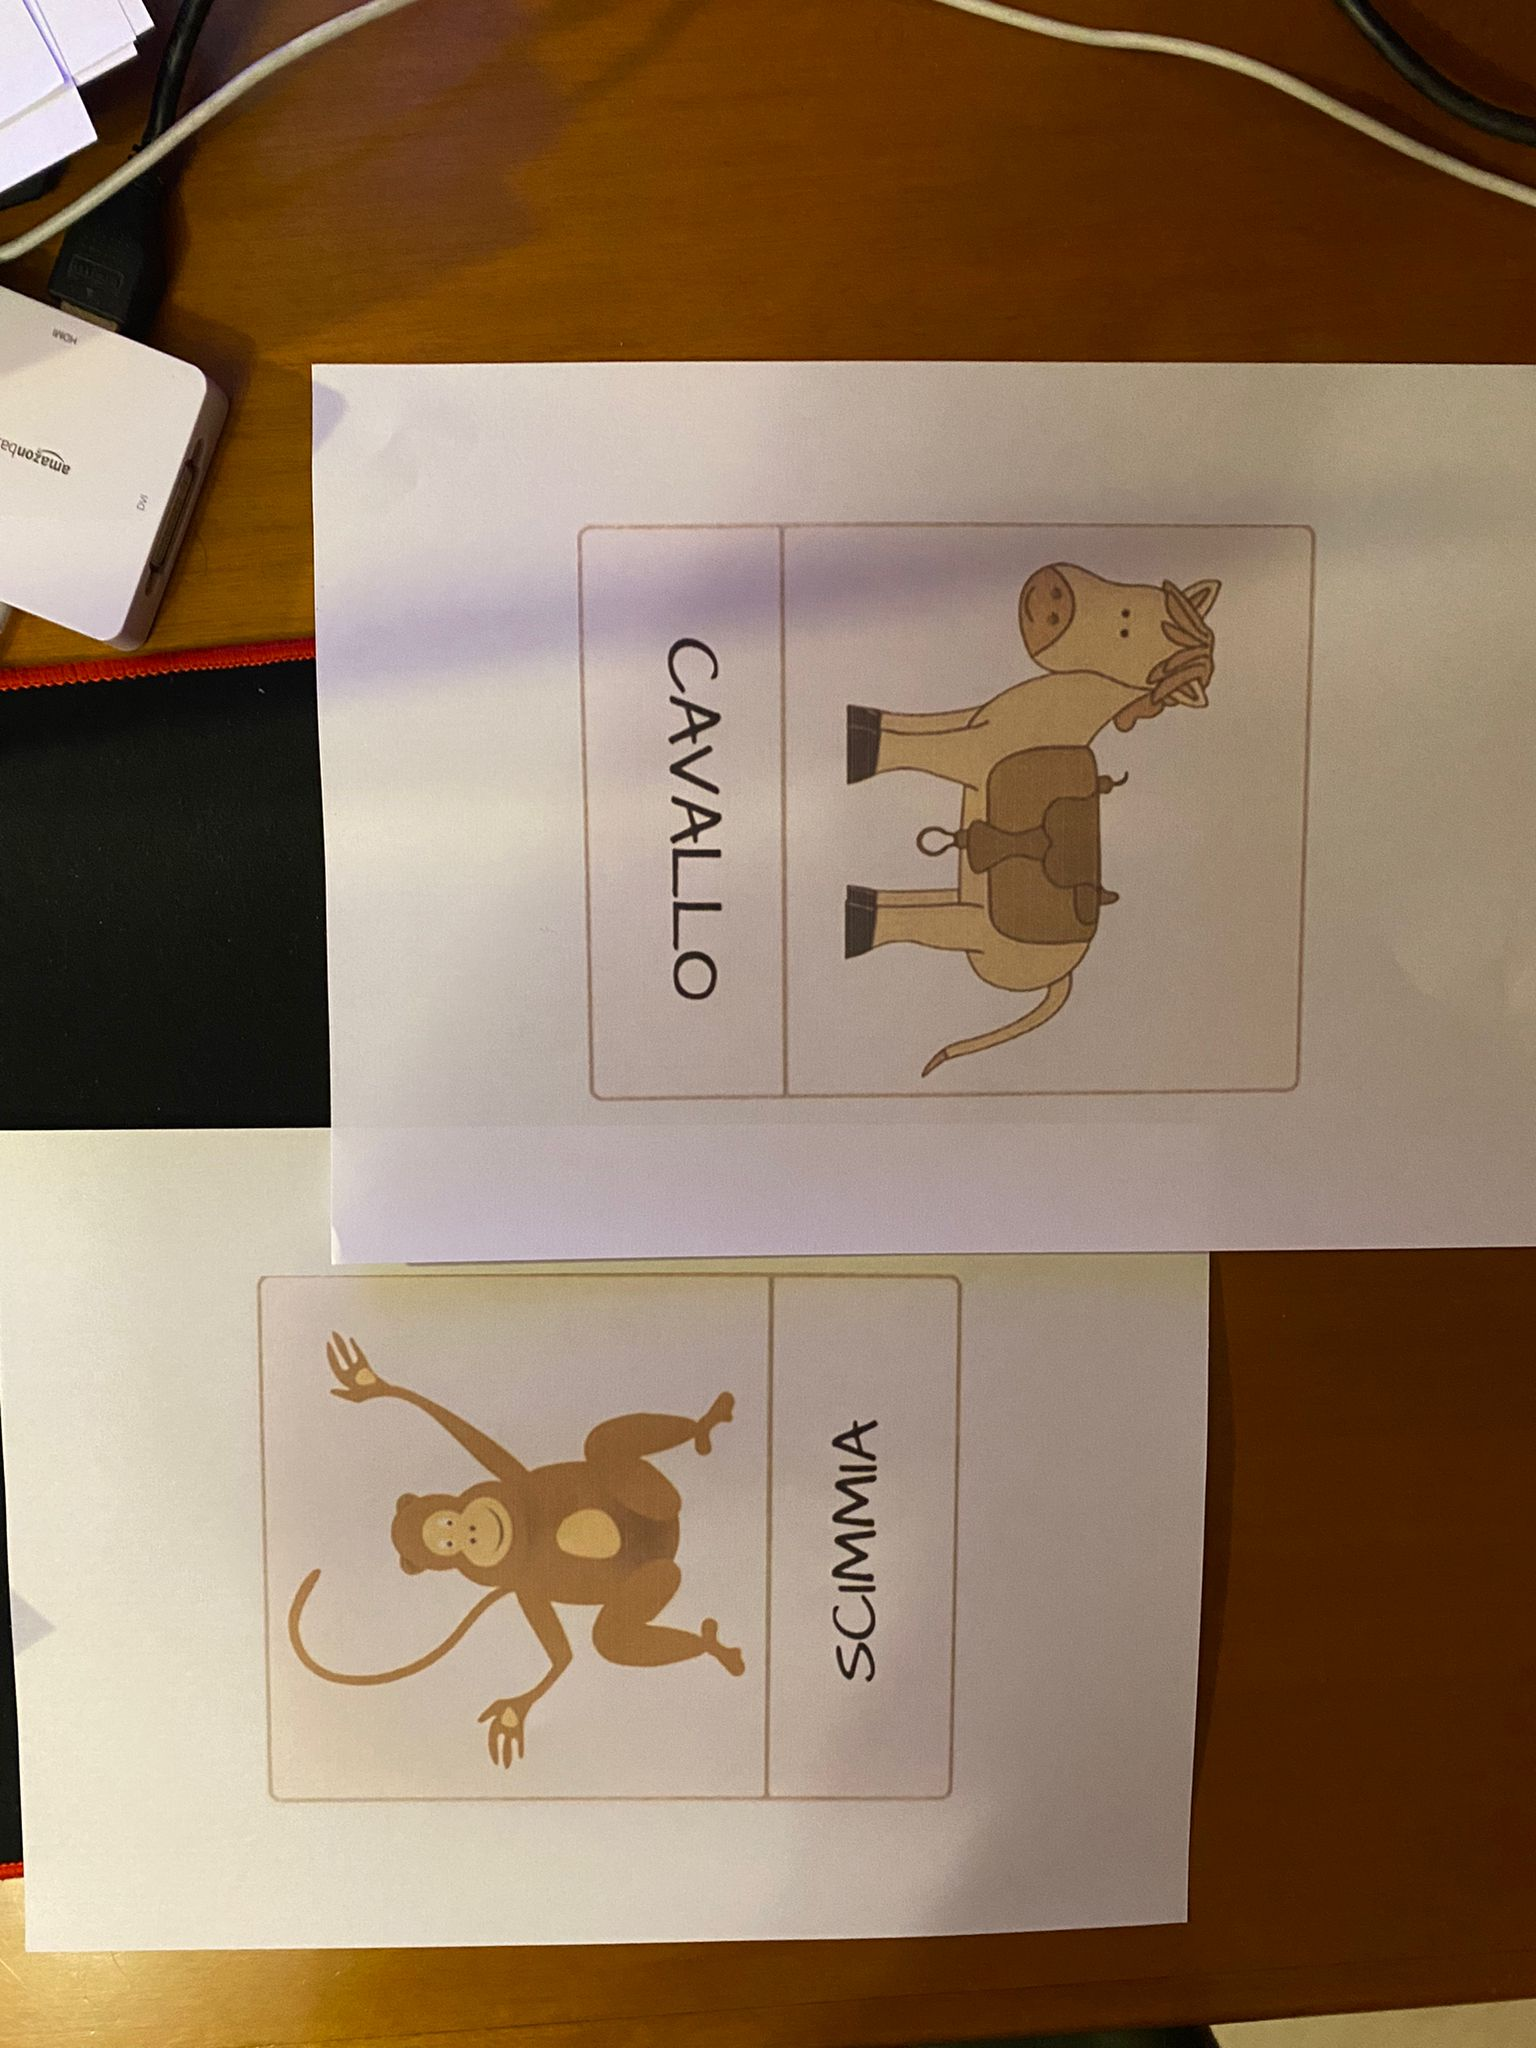cavallo: (588, 536, 1303, 1092)
scimmia: (267, 1290, 967, 1785)
